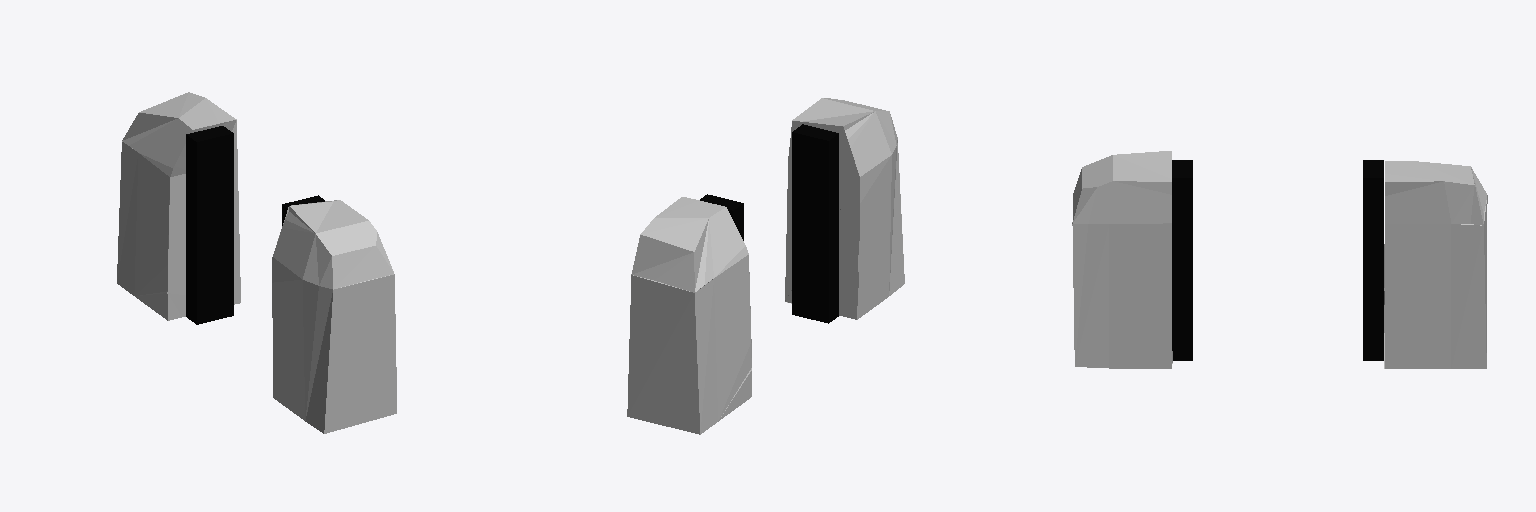
Rendered from hedge_door.obj.
The picture shows the model from 3 angles: view 1: azimuth 30°, elevation 25°; view 2: azimuth 150°, elevation 25°; view 3: azimuth 270°, elevation 25°; orthographic projection.
Visible parts, largest first — view 1: Hedge_Cube.002, PostRight_Cube.003; view 2: Hedge_Cube.002, PostLeft_Cube.001, PostRight_Cube.003; view 3: Hedge_Cube.002, PostRight_Cube.003, PostLeft_Cube.001.
Part boxes in pixels (x1,y1,x2,y2): Hedge_Cube.002: (117, 92, 396, 433); PostRight_Cube.003: (186, 126, 233, 324); Hedge_Cube.002: (627, 98, 904, 434); PostLeft_Cube.001: (792, 124, 838, 323); PostRight_Cube.003: (700, 194, 743, 240); Hedge_Cube.002: (1072, 151, 1487, 368); PostRight_Cube.003: (1363, 160, 1383, 360); PostLeft_Cube.001: (1172, 160, 1192, 360).
Size of the model in its own units: 0.8434 by 1.98 by 3.91.